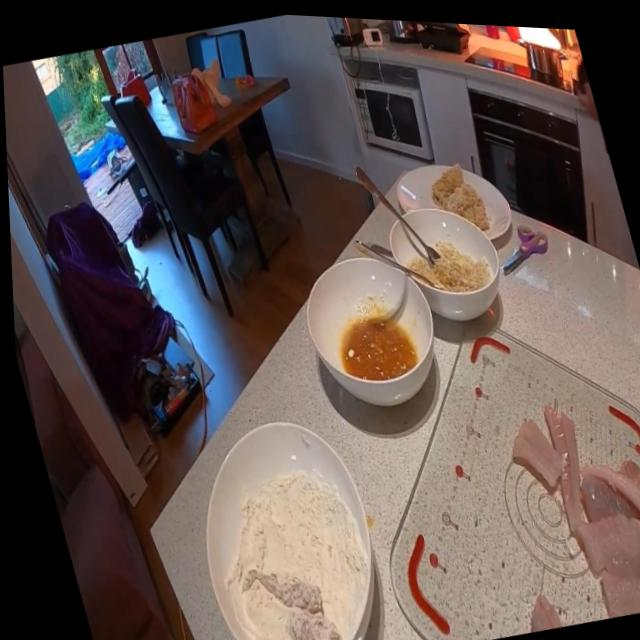fire: (497, 20, 565, 55)
